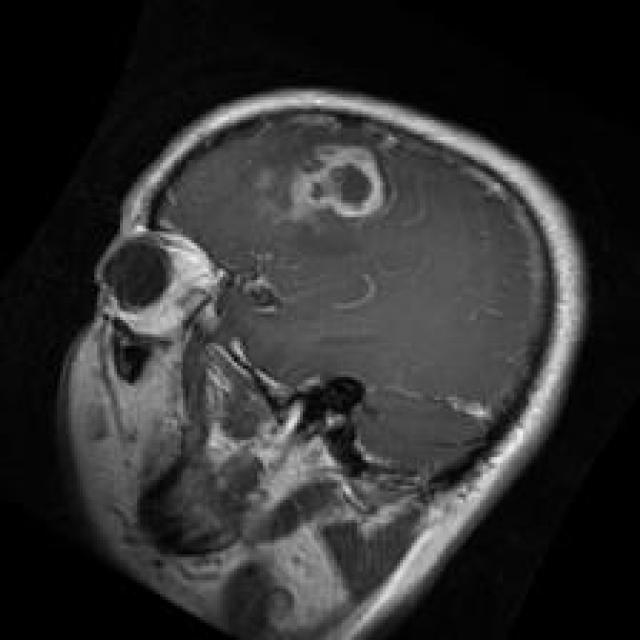glioma_tumor: (253, 106, 409, 254)
